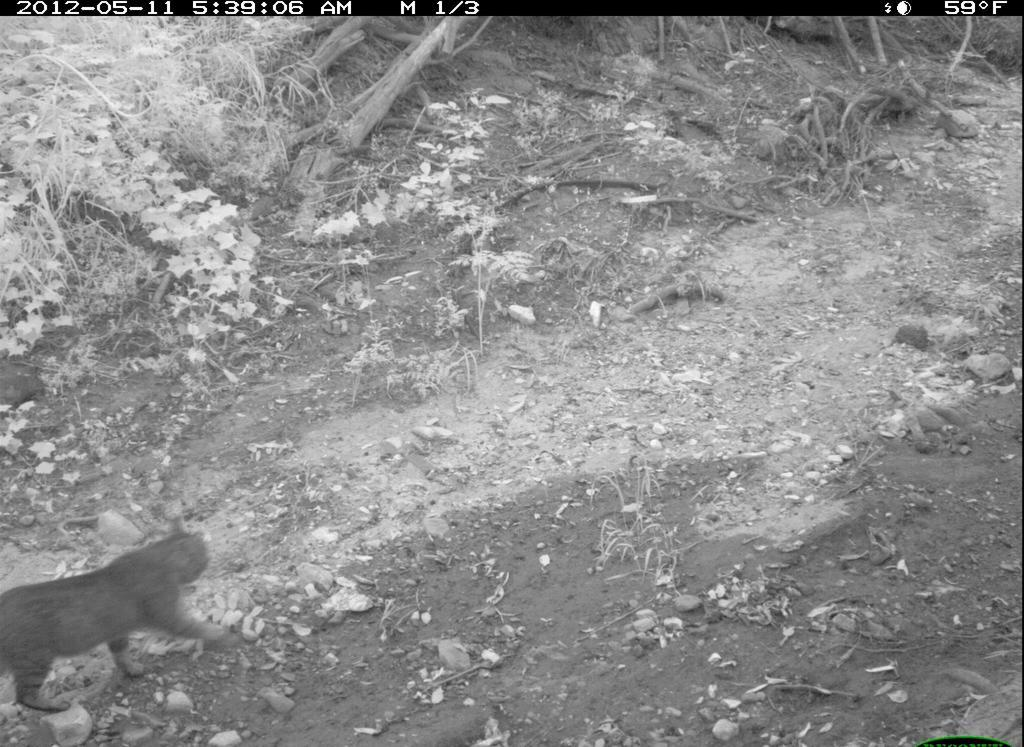cat: (1, 510, 223, 717)
